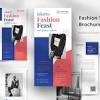paper: (0, 8, 100, 100)
